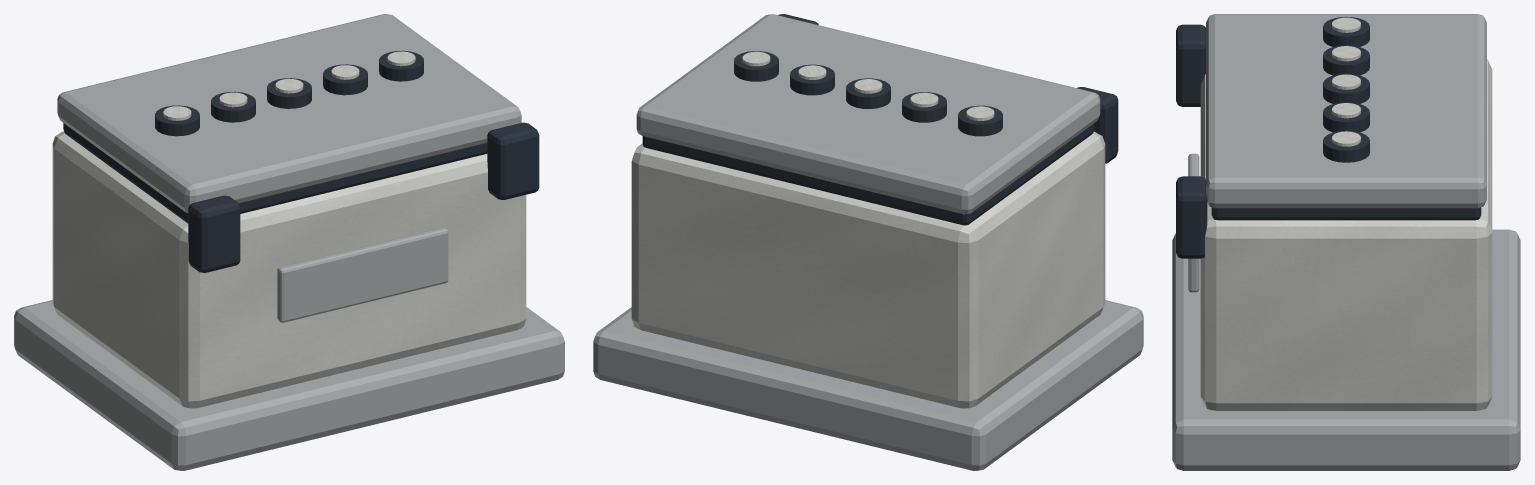
Rendered from rover_sample_storage.glb.
3 views of the same model, side by side, from view 1: azimuth 30°, elevation 25°; view 2: azimuth 150°, elevation 25°; view 3: azimuth 270°, elevation 25° (orthographic). The views are drawn at different scales.
Parts seen in each view (by area): view 1: Sample_CacheBody, Sample_CacheLid, Sample_Mount, Identification_Plate, Lid_Seal, Lid_Latch, Lid_Latch.001, Tube_Cap, Tube_Cap.003, Tube_Cap.001, Tube_Cap.004, Tube_Cap.002; view 2: Sample_CacheBody, Sample_CacheLid, Sample_Mount, Lid_Seal, Lid_Latch, Tube_Cap.003, Tube_Cap, Tube_Cap.002, Tube_Cap.004, Tube_Cap.001; view 3: Sample_CacheBody, Sample_CacheLid, Sample_Mount, Lid_Seal, Lid_Latch.001, Lid_Latch, Tube_Cap.004, Tube_Cap.002, Tube_Cap.001, Tube_Cap, Tube_Cap.003, Identification_Plate (+5 smaller).
Boxes of the visible parts, x1,y1,x2,y2 form: Sample_CacheBody: (52,131,526,408); Sample_CacheLid: (57,14,521,213); Sample_Mount: (14,300,564,470); Identification_Plate: (277,227,448,322); Lid_Seal: (63,123,487,223); Lid_Latch: (188,195,240,272); Lid_Latch.001: (487,122,539,199); Tube_Cap: (155,105,199,136); Tube_Cap.003: (323,64,367,95); Tube_Cap.001: (211,91,255,122); Tube_Cap.004: (379,50,423,81); Tube_Cap.002: (267,78,311,108); Sample_CacheBody: (631,131,1105,408); Sample_CacheLid: (636,14,1100,214); Sample_Mount: (593,300,1143,470); Lid_Seal: (642,123,1094,225); Lid_Latch: (1077,87,1118,163); Tube_Cap.003: (790,64,834,95); Tube_Cap: (958,105,1002,136); Tube_Cap.002: (846,78,890,108); Tube_Cap.004: (734,51,778,81); Tube_Cap.001: (902,92,946,122); Sample_CacheBody: (1200,59,1492,410); Sample_CacheLid: (1206,14,1486,208); Sample_Mount: (1172,229,1520,470); Lid_Seal: (1211,207,1481,220); Lid_Latch.001: (1176,176,1207,258); Lid_Latch: (1176,24,1205,106); Tube_Cap.004: (1323,130,1369,162); Tube_Cap.002: (1323,73,1369,103); Tube_Cap.001: (1323,45,1369,75); Tube_Cap: (1323,16,1369,46); Tube_Cap.003: (1323,102,1369,132); Identification_Plate: (1188,153,1199,292).
Bounding box in the file's own units: 0.42 × 0.29 × 0.31.
3 materials, 1 textured.
